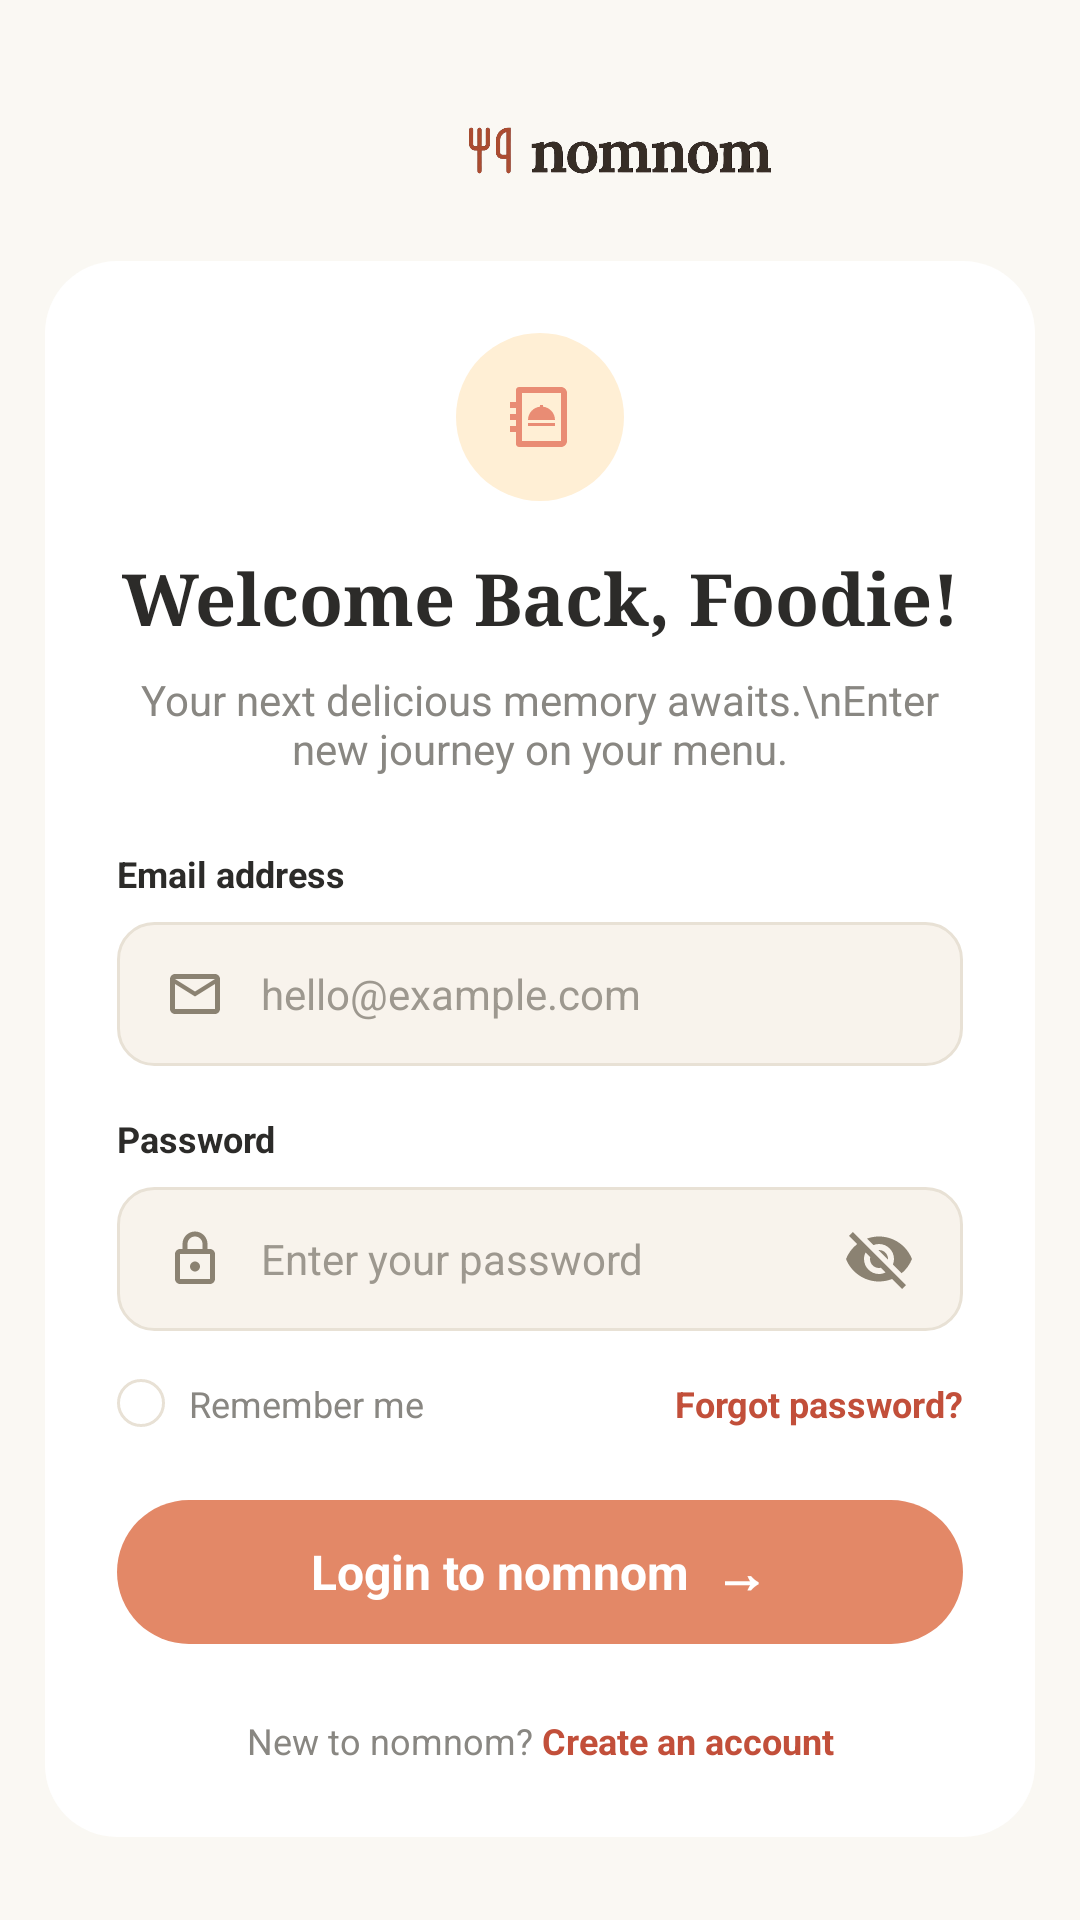

Icons on this 1080 x 1920 Android screen, each with its box as [x1,y1,x2,y2]:
lock: [175,1231,215,1284]
menu: [456,333,624,501]
